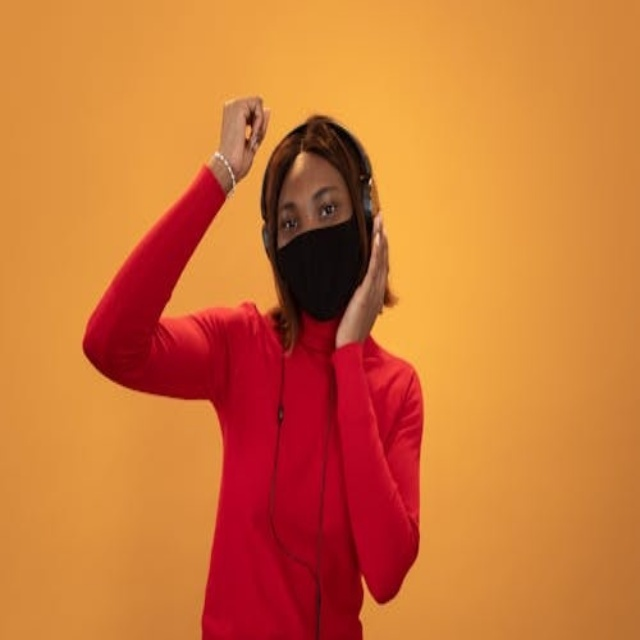Mascara: (273, 214, 365, 321)
Sin_gafas: (320, 202, 337, 218), (282, 216, 298, 232)
Sin_guantes: (332, 221, 407, 354), (207, 85, 275, 186)
